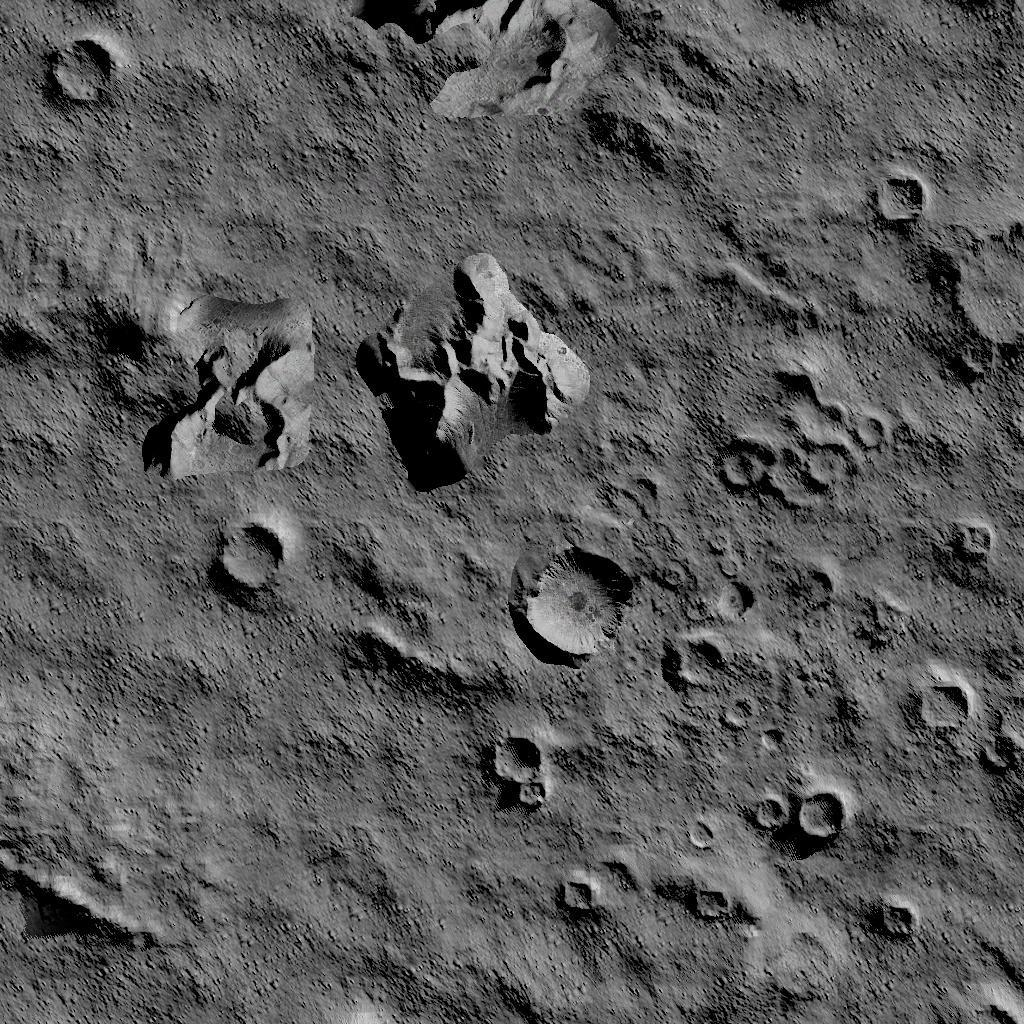Boulders: (349, 244, 586, 482), (134, 281, 310, 476), (384, 0, 607, 123)
Crater: (714, 366, 882, 508), (519, 540, 637, 657), (947, 206, 1024, 355), (210, 515, 290, 601), (40, 35, 122, 105), (747, 788, 845, 838), (941, 967, 1024, 1024), (488, 730, 552, 802), (870, 166, 934, 224), (912, 678, 972, 732), (982, 715, 1024, 788), (664, 631, 725, 681), (946, 515, 998, 561), (712, 574, 758, 615), (556, 871, 598, 913), (872, 892, 917, 930), (690, 882, 734, 918), (684, 814, 717, 850), (725, 690, 751, 722)
Plan surface: (211, 652, 479, 954), (0, 488, 197, 807), (137, 0, 373, 192)
